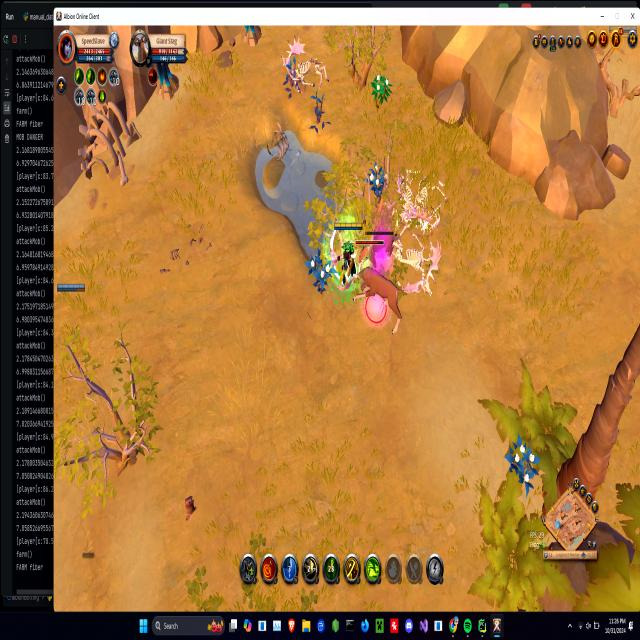hide: (506, 434, 540, 489), (308, 245, 332, 294), (367, 161, 387, 198), (371, 72, 390, 106)
ore: (355, 229, 407, 338)
player: (152, 58, 181, 102)
red: (332, 217, 361, 288), (55, 280, 86, 295)
